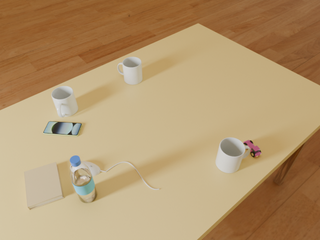book: (24, 162, 64, 210)
bottle: (70, 156, 97, 203)
cup: (216, 138, 250, 173), (52, 86, 78, 117), (118, 57, 142, 85)
mouse: (82, 161, 100, 176)
phone: (43, 121, 82, 136)
toy_car: (243, 140, 261, 157)
